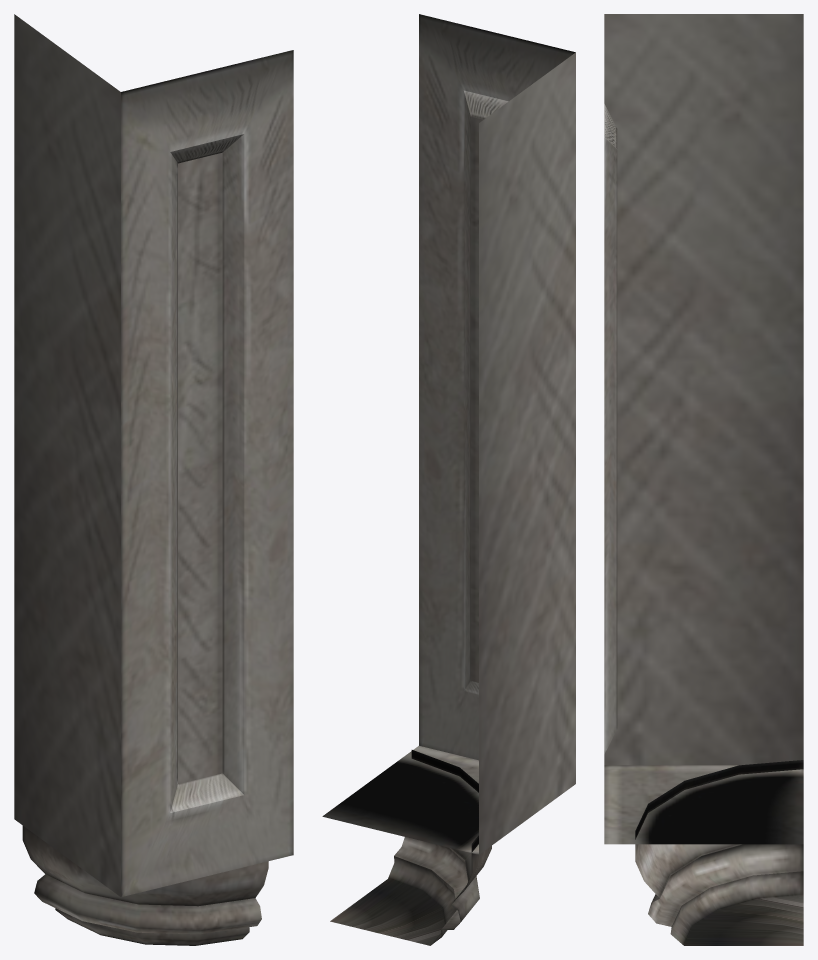
File: arcade_colonnes_corner.fbx
3 renders of one model, left to right at view 1: azimuth 30°, elevation 25°; view 2: azimuth 150°, elevation 25°; view 3: azimuth 270°, elevation 25°, orthographic. The views are drawn at different scales.
Visible parts, largest first — view 1: polySurface1549; view 2: polySurface1549; view 3: polySurface1549.
Part boxes in pixels (x1=…): polySurface1549: x1=14, y1=14, x2=293, y2=945; polySurface1549: x1=322, y1=14, x2=575, y2=945; polySurface1549: x1=604, y1=14, x2=803, y2=945.
Size of the model in its own units: 35.73 by 181 by 38.18.
